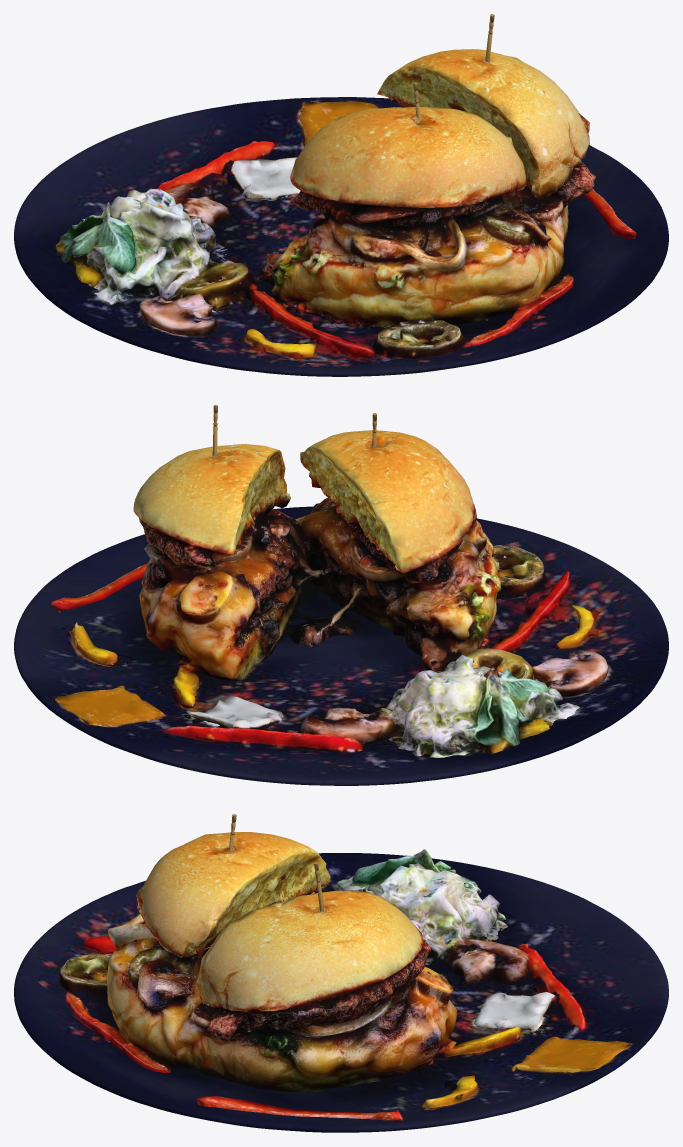
3 renders of one model, top to bottom at view 1: azimuth 30°, elevation 25°; view 2: azimuth 150°, elevation 25°; view 3: azimuth 270°, elevation 25°, orthographic.
Visible parts, largest first — view 1: Cube.004, Cube.005; view 2: Cube.004, Cube.005; view 3: Cube.004, Cube.005.
Boxes of the visible parts, x1=… form: Cube.004: x1=56, y1=14, x2=636, y2=359; Cube.005: x1=14, y1=97, x2=668, y2=376; Cube.004: x1=50, y1=405, x2=608, y2=757; Cube.005: x1=14, y1=506, x2=668, y2=785; Cube.004: x1=58, y1=814, x2=630, y2=1120; Cube.005: x1=14, y1=853, x2=668, y2=1132.
Size of the model in its own units: 35.05 by 14.14 by 35.05.
Materials: 1 (1 with a texture image).
